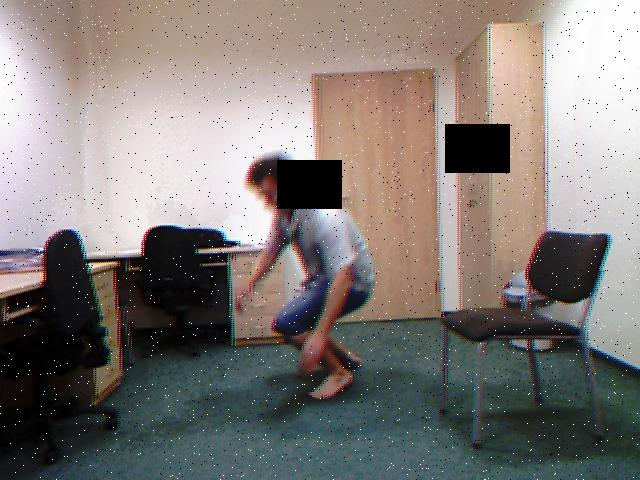near-fall: (239, 148, 377, 398)
